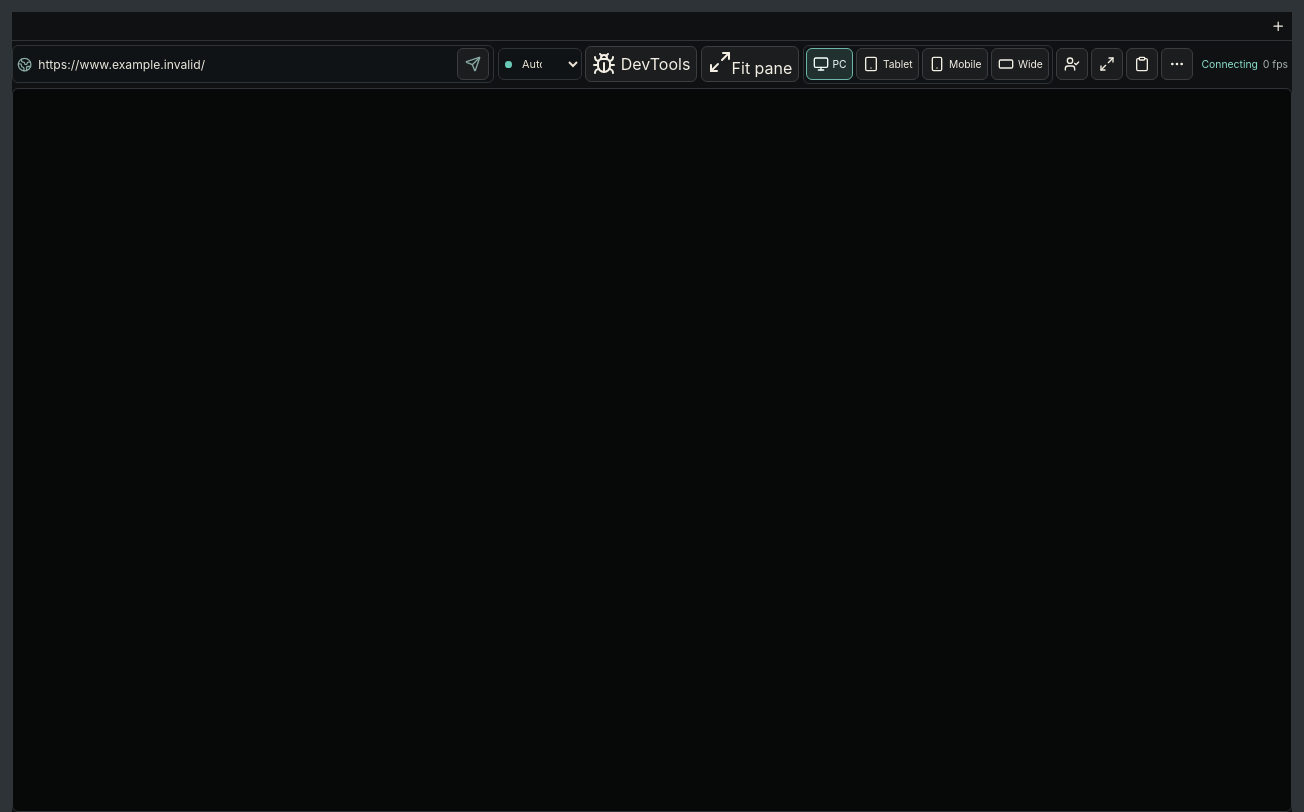
Test: BrowserPane › pastes clipboard text into the page from the toolbar's Paste icon, or opens the text box without clipboard access
What coordinates should you click on to do the following:
click the button named "Paste into browser Research Browser"
I would click on:
 (1142, 64)
Its box is [1126, 48, 1158, 80].
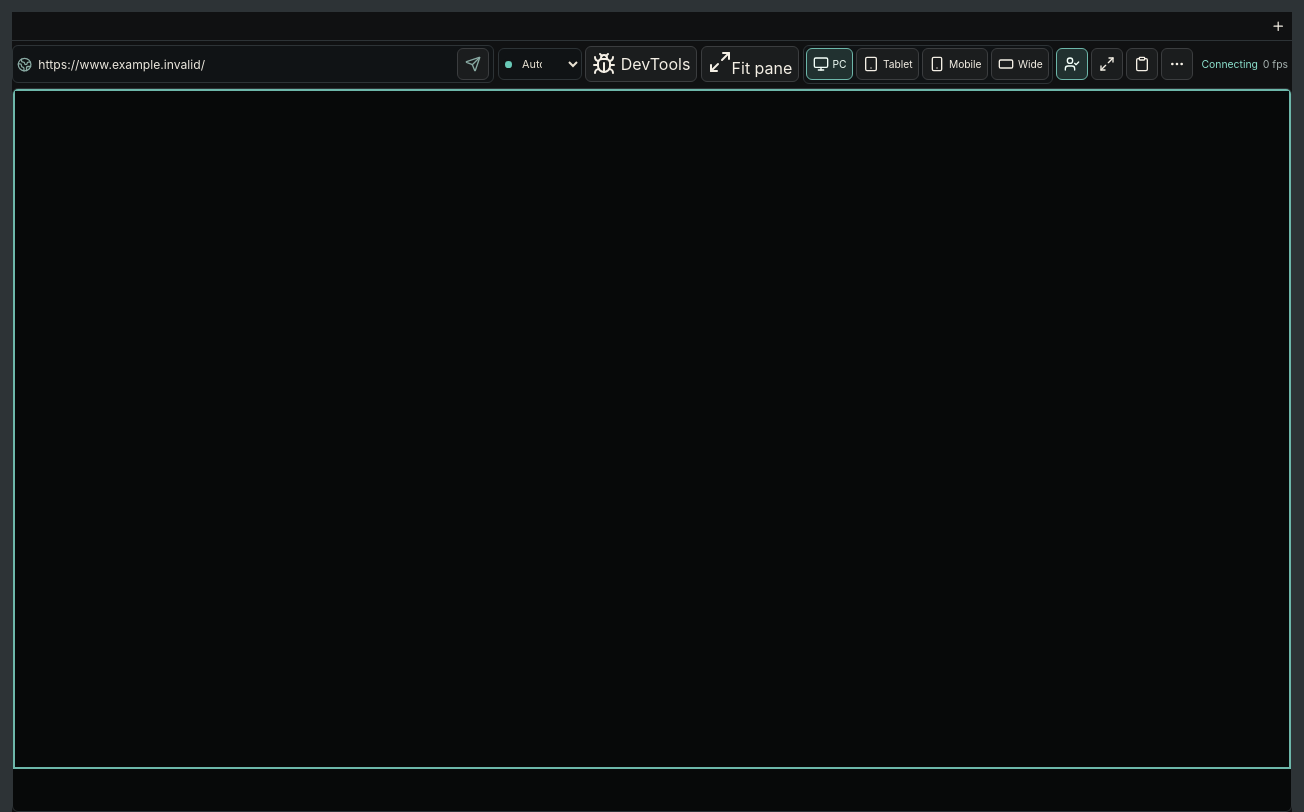
What coordinates should you click on to do the following:
click the button named "Paste into browser Research Browser"
I would click on:
 (1142, 64)
Its box is [1126, 48, 1158, 80].
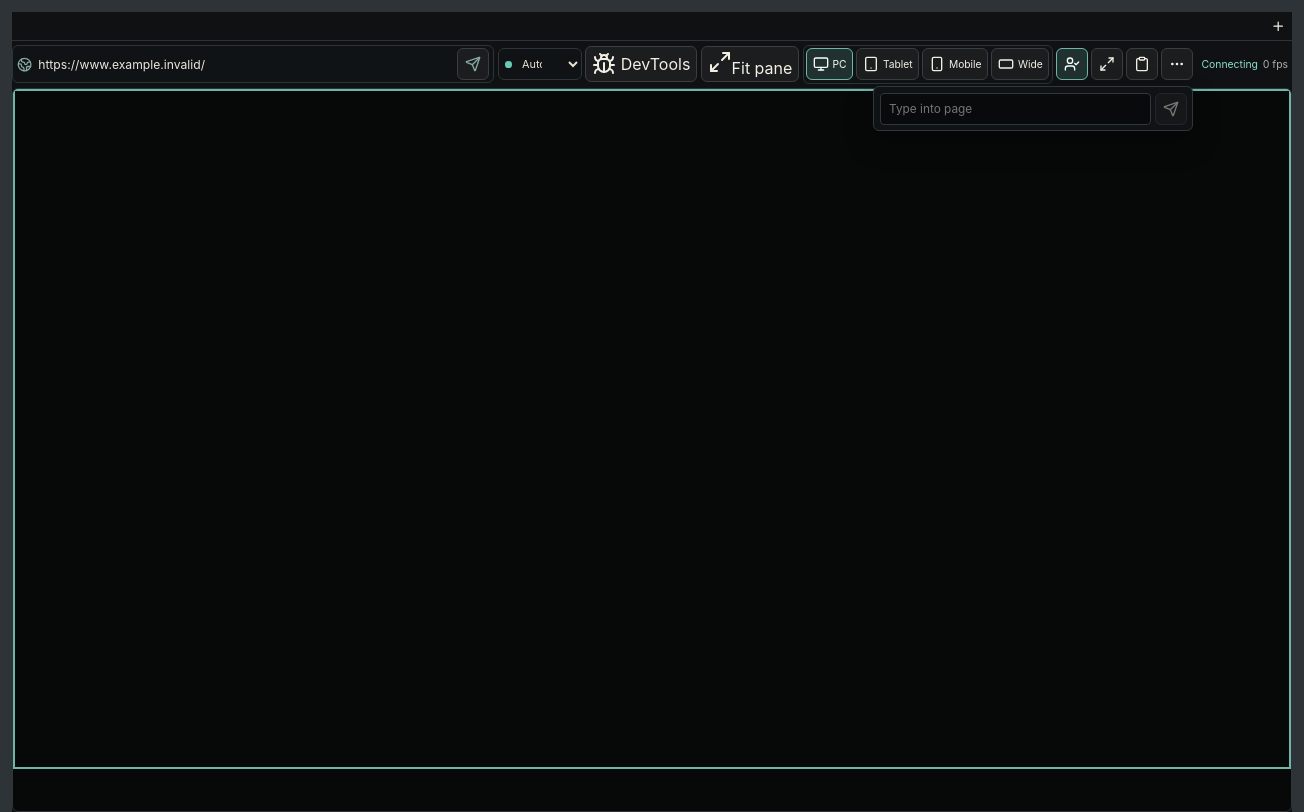
expect the field with placeholder "Type into page" is shown: met, box [880, 93, 1151, 125]
